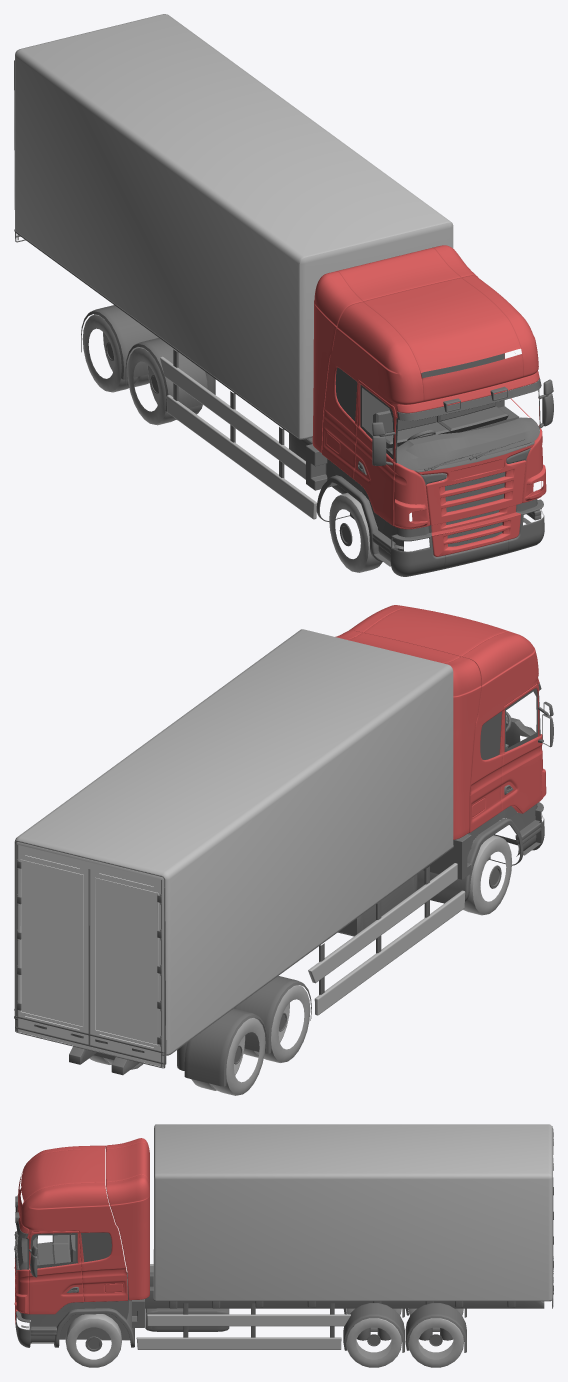
File: truck.glb
3 views of the same model, one above another, from view 1: azimuth 30°, elevation 25°; view 2: azimuth 150°, elevation 25°; view 3: azimuth 270°, elevation 25° (orthographic). The views are drawn at different scales.
Visible parts, largest first — view 1: Archmodels55_17_crate, Archmodels55_17_carpaint, Archmodels55_17_black, Archmodels55_17_frame, Archmodels55_17_grill, Archmodels55_17_tires; view 2: Archmodels55_17_crate, Archmodels55_17_crate_doors, Archmodels55_17_carpaint, Archmodels55_17_frame, Archmodels55_17_tires, Archmodels55_17_crate_doors_detail, Archmodels55_17_black; view 3: Archmodels55_17_crate, Archmodels55_17_carpaint, Archmodels55_17_frame, Archmodels55_17_black, Archmodels55_17_tires, Archmodels55_17_crate_doors_detail.
Part boxes in pixels (x1,y1,x2,y2): Archmodels55_17_crate: (15,14,453,438); Archmodels55_17_carpaint: (312,245,546,576); Archmodels55_17_black: (326,353,553,566); Archmodels55_17_frame: (14,229,347,519); Archmodels55_17_grill: (415,444,533,556); Archmodels55_17_tires: (82,314,382,572); Archmodels55_17_crate: (14,629,453,1066); Archmodels55_17_crate_doors: (18,845,160,1066); Archmodels55_17_carpaint: (335,605,546,903); Archmodels55_17_frame: (14,834,471,1086); Archmodels55_17_tires: (89,835,511,1095); Archmodels55_17_crate_doors_detail: (14,841,166,1068); Archmodels55_17_black: (467,683,553,888); Archmodels55_17_crate: (154,1124,552,1307); Archmodels55_17_carpaint: (14,1138,149,1347); Archmodels55_17_frame: (132,1249,553,1352); Archmodels55_17_black: (15,1195,129,1351); Archmodels55_17_tires: (65,1308,463,1367); Archmodels55_17_crate_doors_detail: (552,1126,553,1308).
Size of the model in its own units: 2.84 by 4.22 by 10.57.
